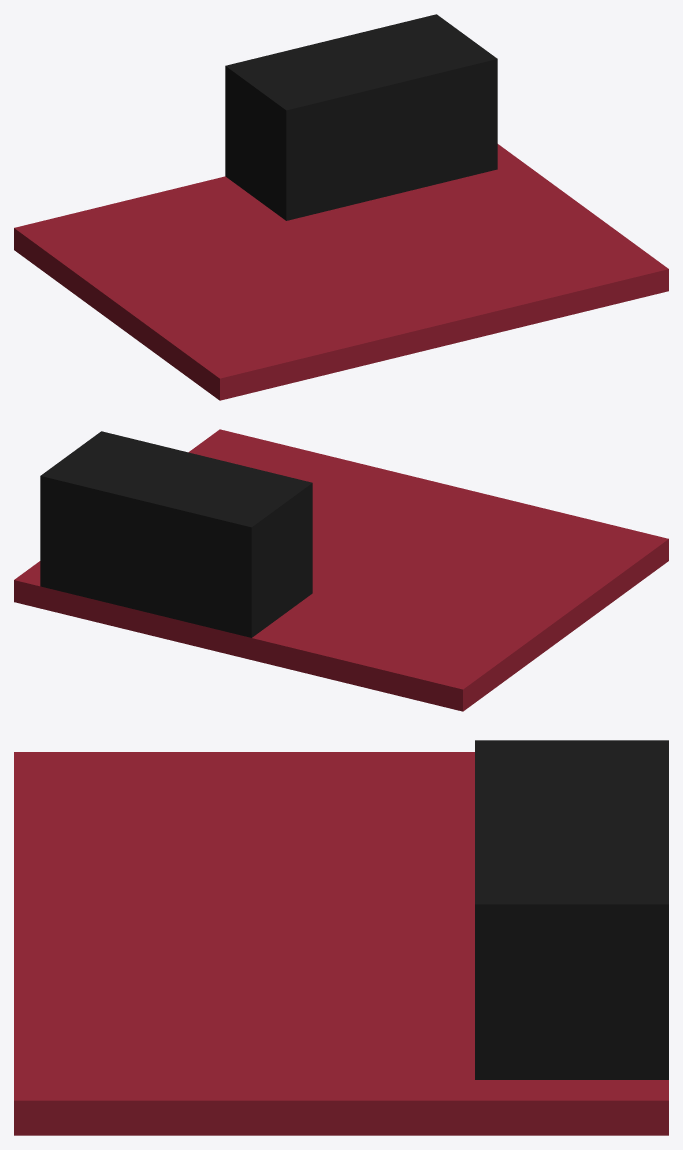
File: relay-module-1ch.glb
3 views of the same model, one above another, from view 1: azimuth 30°, elevation 25°; view 2: azimuth 150°, elevation 25°; view 3: azimuth 270°, elevation 25° (orthographic). The views are drawn at different scales.
Size of the model in its own units: 0.034 by 0.0096 by 0.027.
